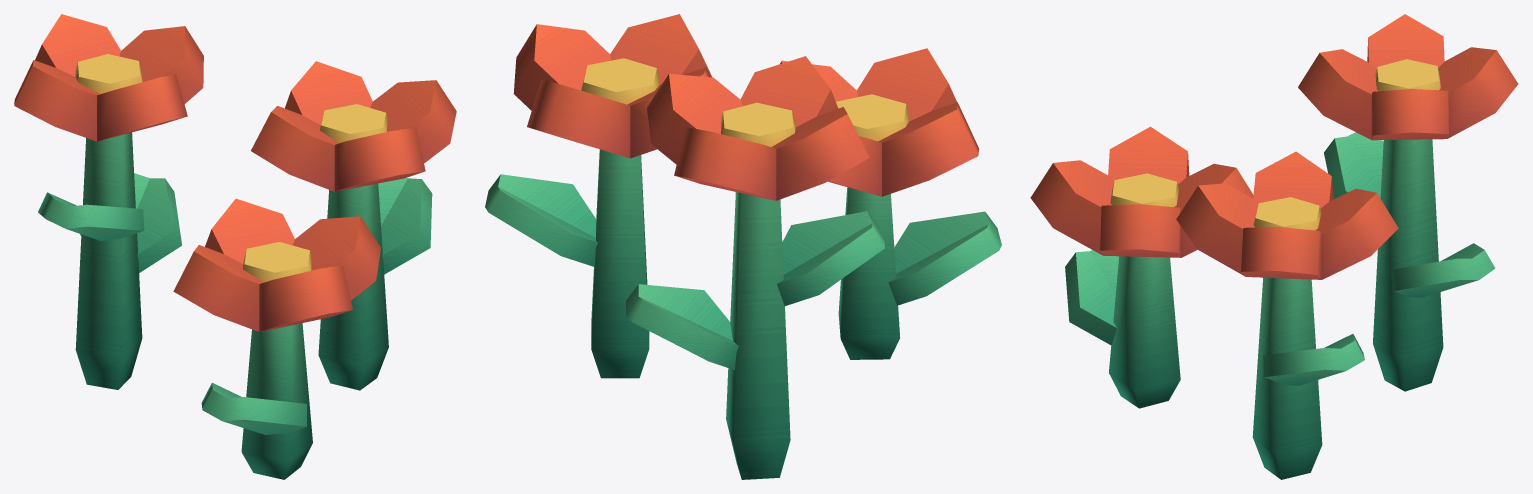
Rendered from flowers-tall.glb.
3 renders of one model, left to right at view 1: azimuth 30°, elevation 25°; view 2: azimuth 150°, elevation 25°; view 3: azimuth 270°, elevation 25°, orthographic. The views are drawn at different scales.
Parts seen in each view (by area): view 1: flowers-tall; view 2: flowers-tall; view 3: flowers-tall.
Boxes of the visible parts, x1=… form: flowers-tall: x1=14, y1=14, x2=456, y2=479; flowers-tall: x1=485, y1=14, x2=1001, y2=479; flowers-tall: x1=1030, y1=14, x2=1518, y2=479.
Size of the model in its own units: 0.546 by 0.4616 by 0.6183.
1 material, 1 textured.
